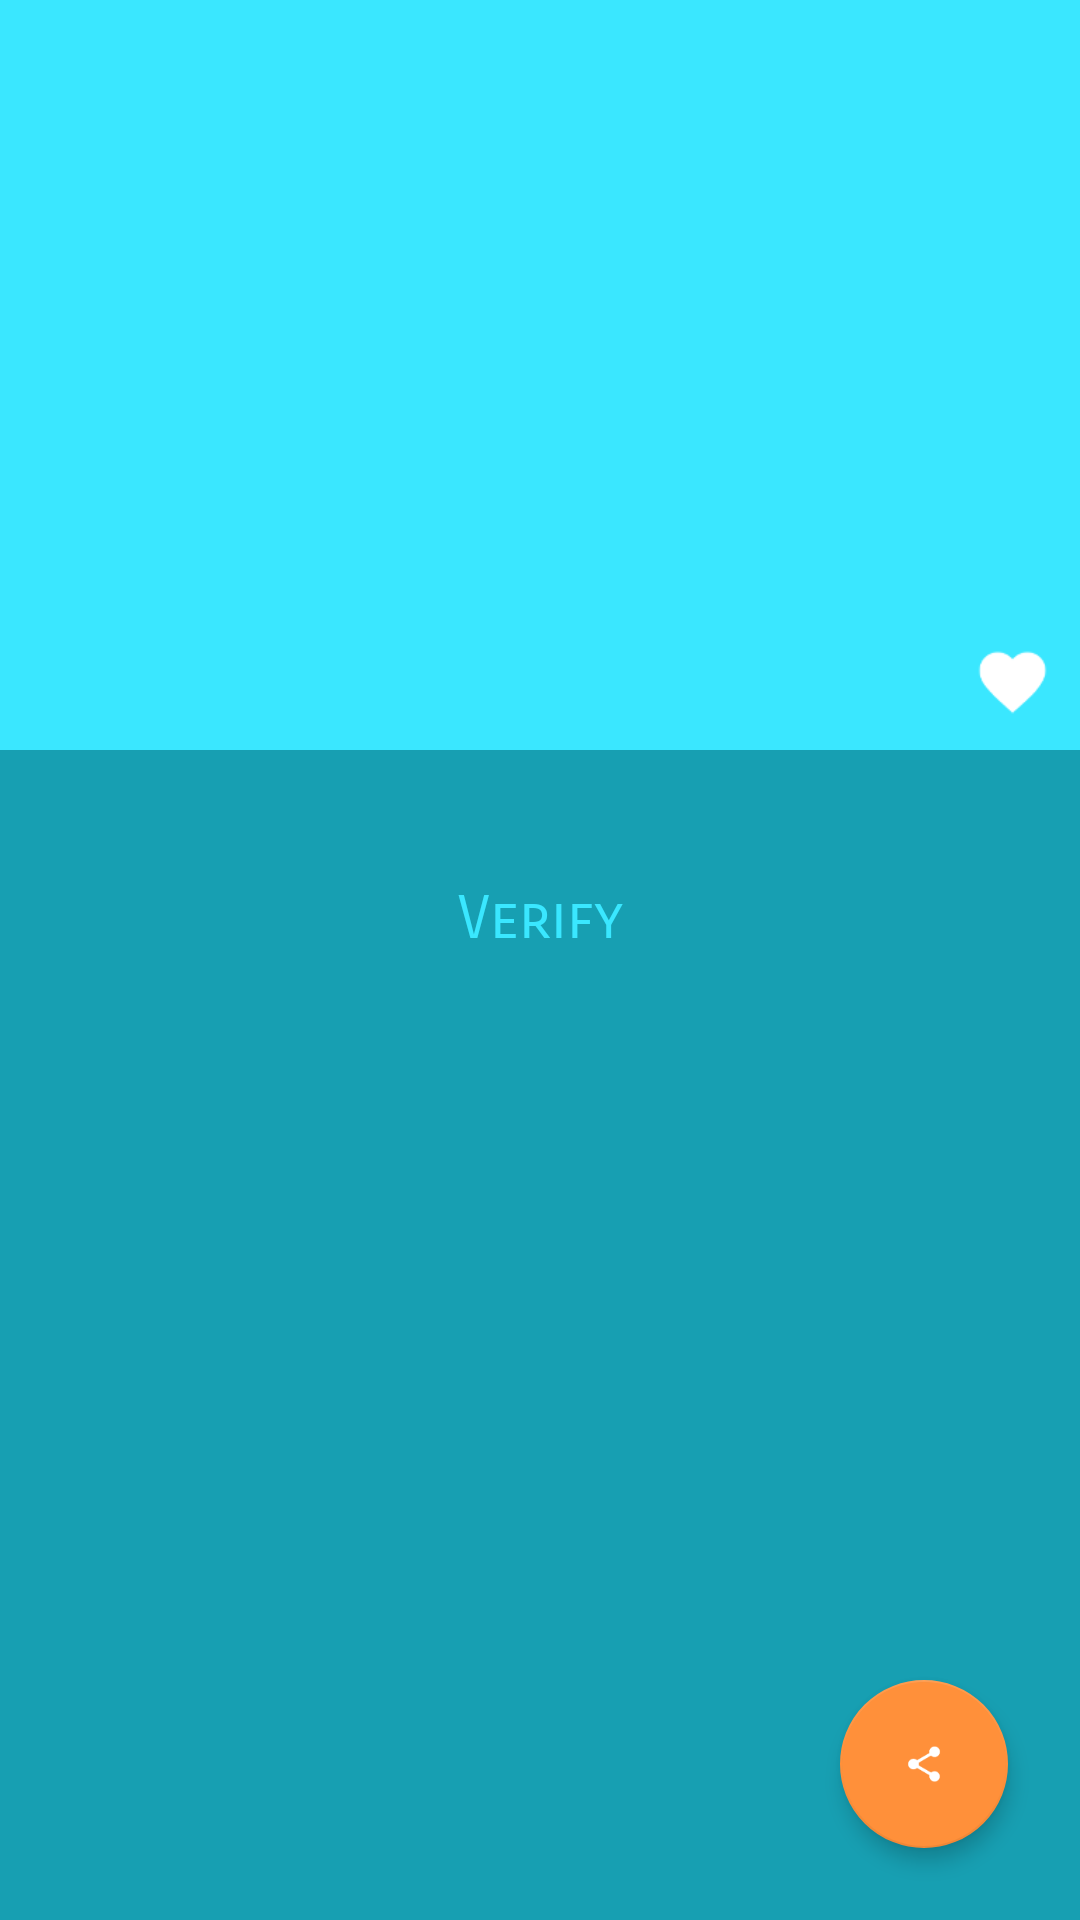

Screen size 1080*1920. Icon name, then its center in pixels as point (x, y):
Share: point (924, 1764)
